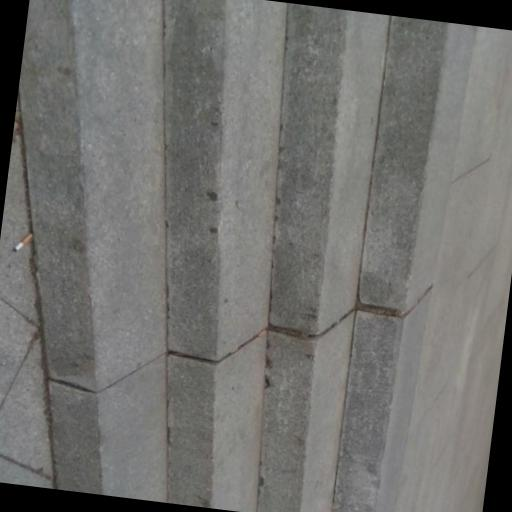stairs: (19, 0, 472, 511)
